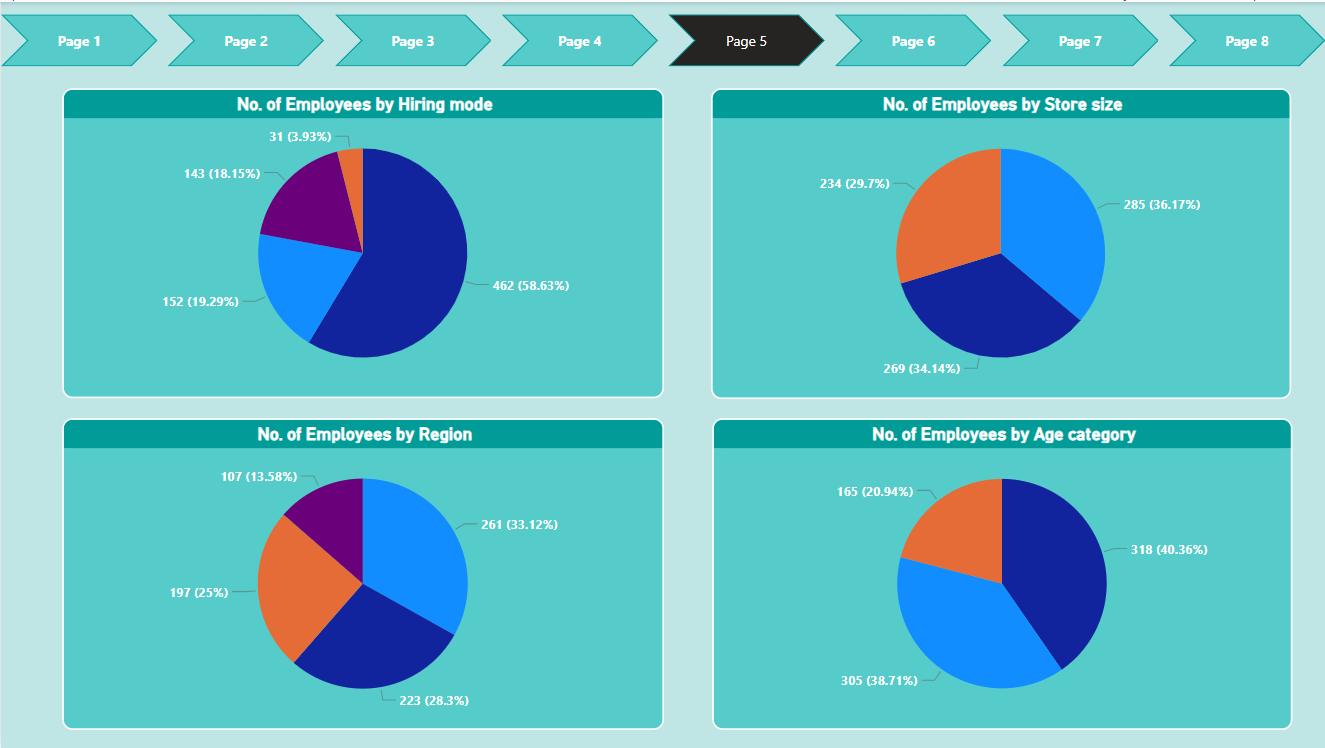

The dashboard page shown, as its layout file describes it:
{"tool":"powerbi","page":{"name":"Page 5","canvas":[1280,720],"ordinal":4},"visuals":[{"type":"pieChart","title":"No. of Employees  by Hiring mode","fields":{"Category":["Hiring Data.hiring_mode"],"Y":["Hiring Data.No. of employees"]},"box":[58.7,83.2,580.8,299.6],"z":0},{"type":"pieChart","title":"No. of Employees by Age category","fields":{"Category":["Employee.Age category"],"Y":["Hiring Data.No. of employees"]},"box":[686,402.3,560.1,300.8],"z":4000},{"type":"pieChart","title":"No. of Employees by Region","fields":{"Category":["Store Data.region"],"Y":["Hiring Data.No. of employees"]},"box":[58.7,402.3,580.8,300.8],"z":5000},{"type":"pieChart","title":"No. of Employees by Store size","fields":{"Category":["Store Data.store_size"],"Y":["Hiring Data.No. of employees"]},"box":[685.7,82.9,560,300],"z":6000},{"type":"pageNavigator","box":[0,12.1,1280,50.7],"z":7000}]}

Visuals, with their boxes in screenshot pixels (x1, y1, x2, y2), scaled from the page's 1280x720 canvas onto the 1325x748 screenshot:
"No. of Employees  by Hiring mode" pieChart: region(61, 86, 662, 398)
"No. of Employees by Age category" pieChart: region(710, 418, 1290, 730)
"No. of Employees by Region" pieChart: region(61, 418, 662, 730)
"No. of Employees by Store size" pieChart: region(710, 86, 1289, 398)
pageNavigator: region(0, 13, 1324, 65)
